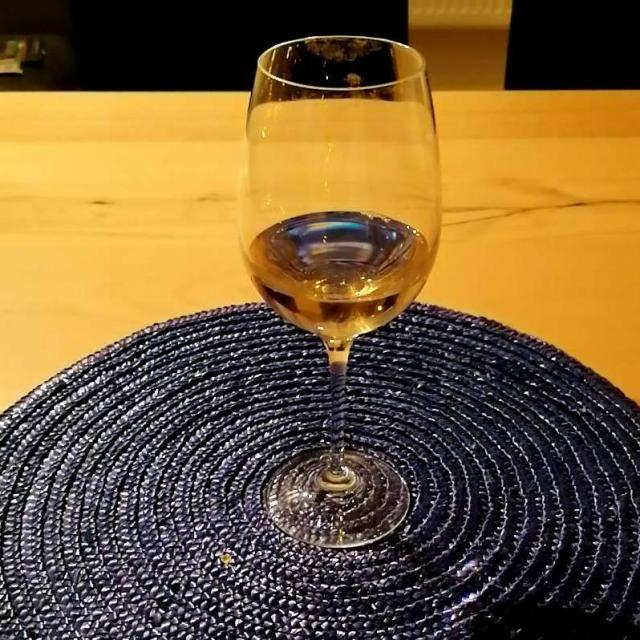wine-white: (245, 211, 429, 340)
